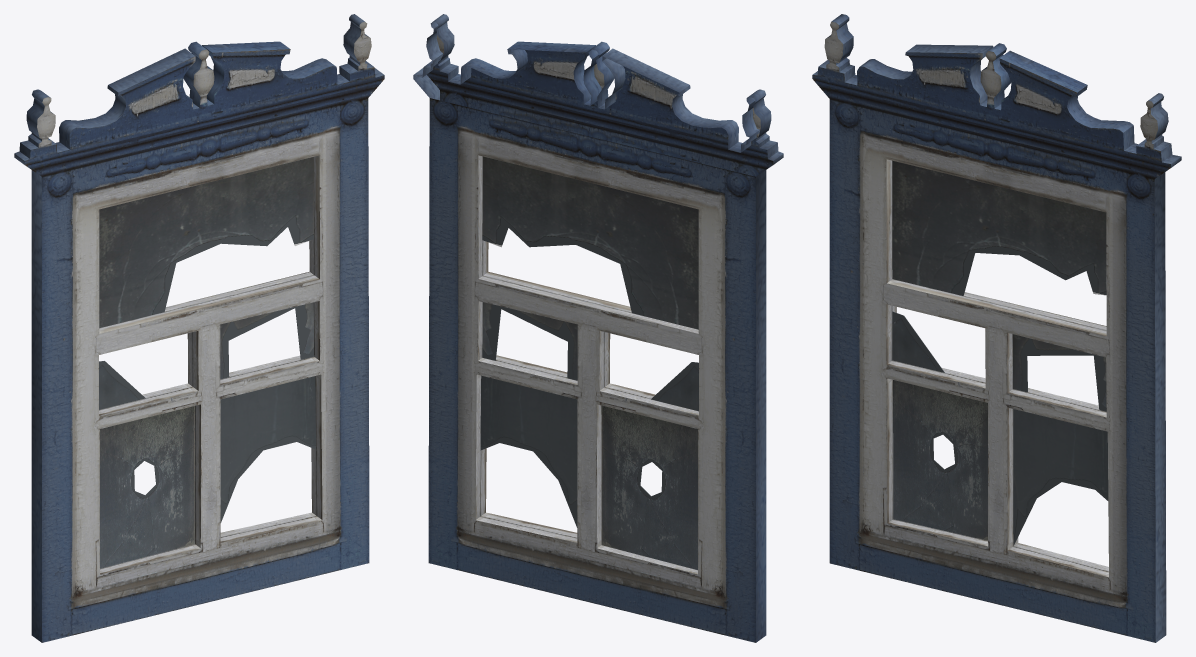
File: Windows_02_2.FBX
3 views of the same model, side by side, from view 1: azimuth 30°, elevation 25°; view 2: azimuth 150°, elevation 25°; view 3: azimuth 330°, elevation 25° (orthographic).
Visible parts, largest first — view 1: Windows_02_2, Windows_02_2glass (×5); view 2: Windows_02_2, Windows_02_2glass (×5); view 3: Windows_02_2, Windows_02_2glass (×5).
Boxes of the visible parts, <box> form: Windows_02_2: <box>14,14,384,642</box>; Windows_02_2glass (×5): <box>99,157,315,568</box>; Windows_02_2: <box>413,14,783,642</box>; Windows_02_2glass (×5): <box>480,156,698,569</box>; Windows_02_2: <box>812,14,1181,642</box>; Windows_02_2glass (×5): <box>892,160,1108,545</box>.
Bounding box in the file's own units: 134 × 6.78 × 197.
2 materials, 2 textured.
